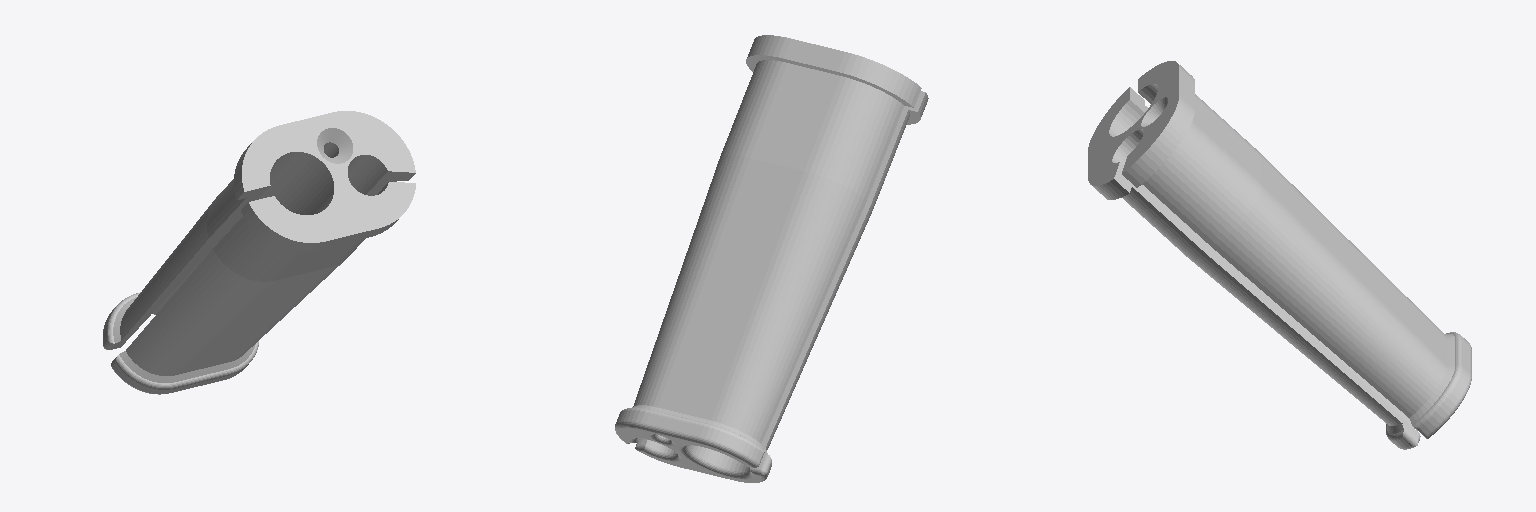
Rendered from [TPU] Strain Relief Left 6mm.obj.
3 views of the same model, side by side, from view 1: azimuth 30°, elevation 25°; view 2: azimuth 150°, elevation 25°; view 3: azimuth 270°, elevation 25° (orthographic).
Parts seen in each view (by area): view 1: [TPU] Strain Relief Left 6mm; view 2: [TPU] Strain Relief Left 6mm; view 3: [TPU] Strain Relief Left 6mm.
Boxes of the visible parts, x1=… form: [TPU] Strain Relief Left 6mm: x1=103, y1=111, x2=415, y2=394; [TPU] Strain Relief Left 6mm: x1=615, y1=35, x2=928, y2=482; [TPU] Strain Relief Left 6mm: x1=1088, y1=61, x2=1471, y2=449.
Size of the model in its own units: 17.17 by 34.49 by 34.49.